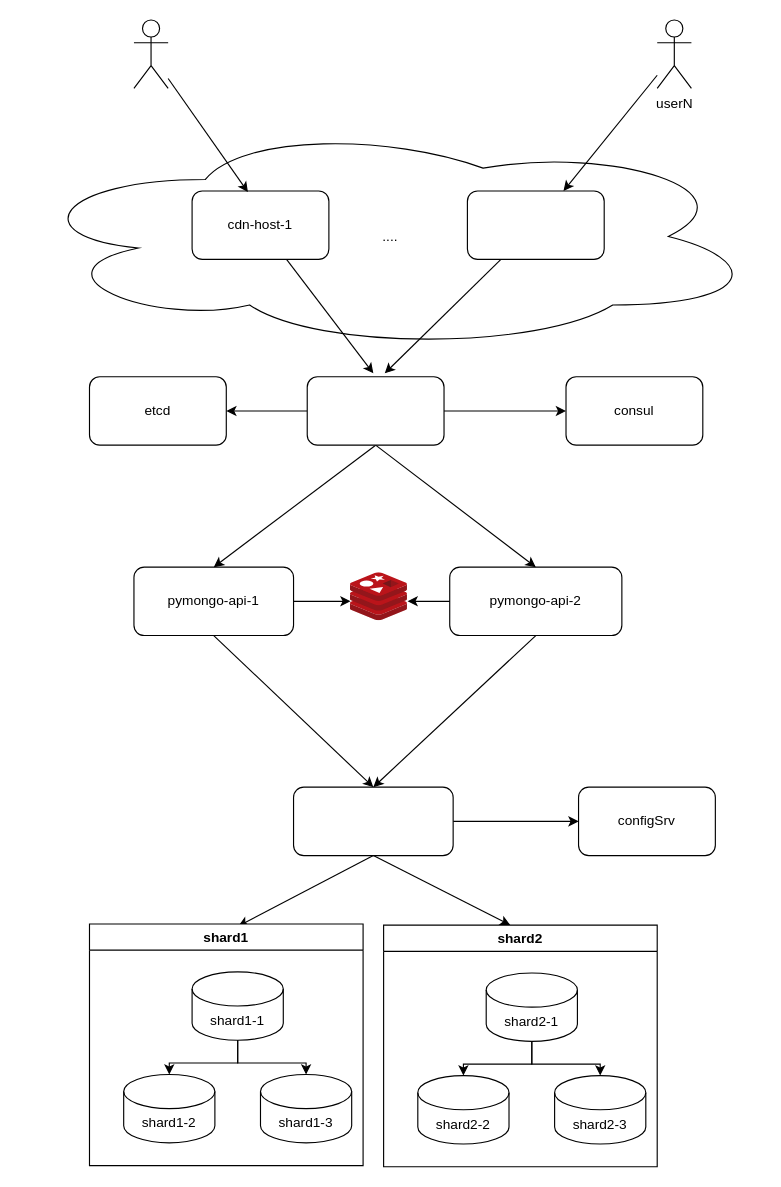
The diagram is 781 pixels wide and 1187 high, and some of its shapes have lost their labels. The shapes that lost their labels are listed below. From the top down, each one's centre as x and y in pixels, then its label:
At pixel 150 53: "user1".
At pixel 535 224: "cdn-host-N".
At pixel 375 410: "apisix".
At pixel 378 596: "redis".
At pixel 372 821: "mongos_router".
